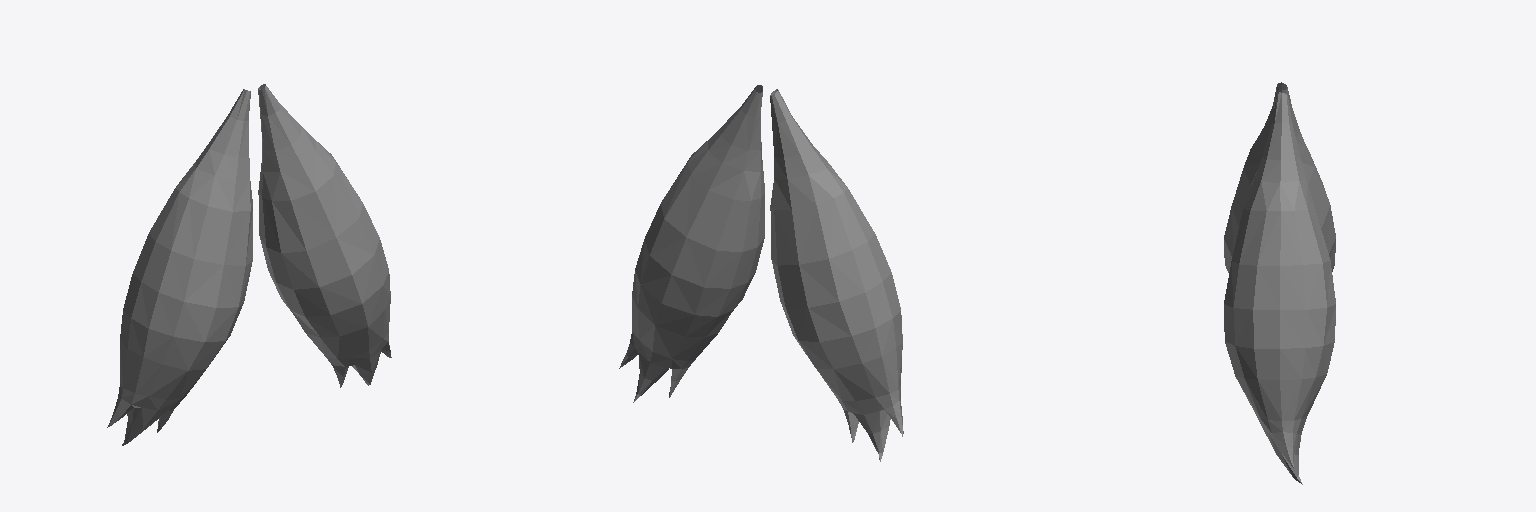
File: Tails.obj
3 views of the same model, side by side, from view 1: azimuth 30°, elevation 25°; view 2: azimuth 150°, elevation 25°; view 3: azimuth 270°, elevation 25° (orthographic).
Parts seen in each view (by area): view 1: V1_U2_P20_N104, V1_U2_P20_N101, V1_U2_P20_N103; view 2: V1_U2_P20_N104, V1_U2_P20_N101, V1_U2_P20_N103; view 3: V1_U2_P20_N104, V1_U2_P20_N103.
Part boxes in pixels (x1,y1,x2,y2): V1_U2_P20_N104: (120, 104, 390, 399); V1_U2_P20_N101: (107, 384, 184, 445); V1_U2_P20_N103: (327, 332, 391, 387); V1_U2_P20_N104: (632, 107, 902, 400); V1_U2_P20_N101: (837, 386, 903, 461); V1_U2_P20_N103: (619, 332, 695, 402); V1_U2_P20_N104: (1224, 107, 1335, 420); V1_U2_P20_N103: (1257, 417, 1306, 484).
Bounding box in the file's own units: 6.28 × 7.13 × 2.16.